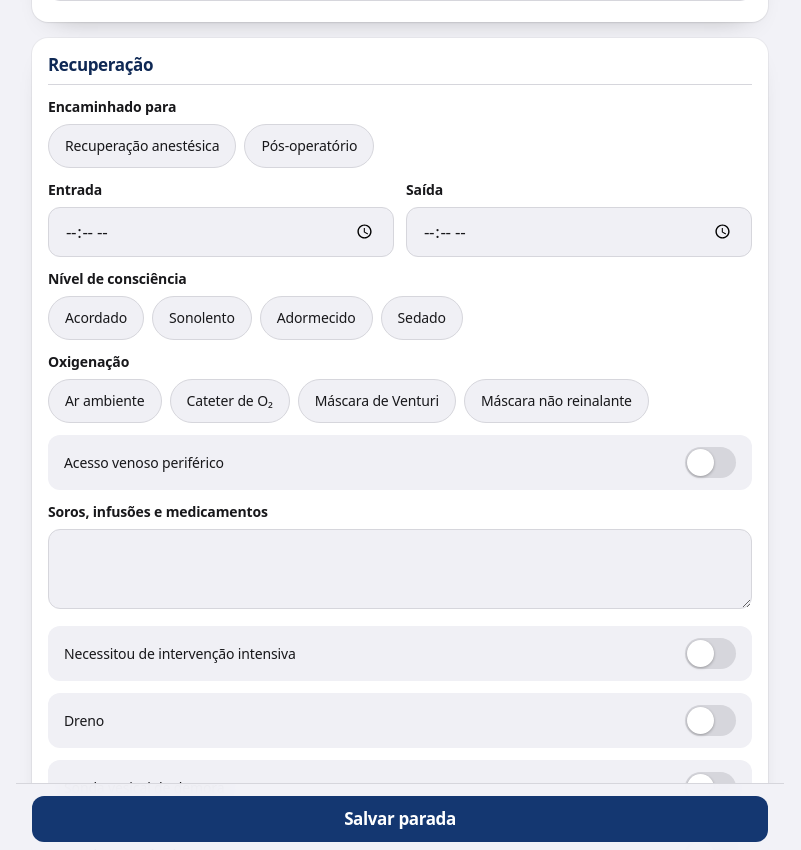
Test: Ficha cirúrgica › a quantidade de litros não é pedida em ar ambiente
(page scrolled)
Step 1. Click the button "Ar ambiente" → [105, 400], box [48,378,162,422]
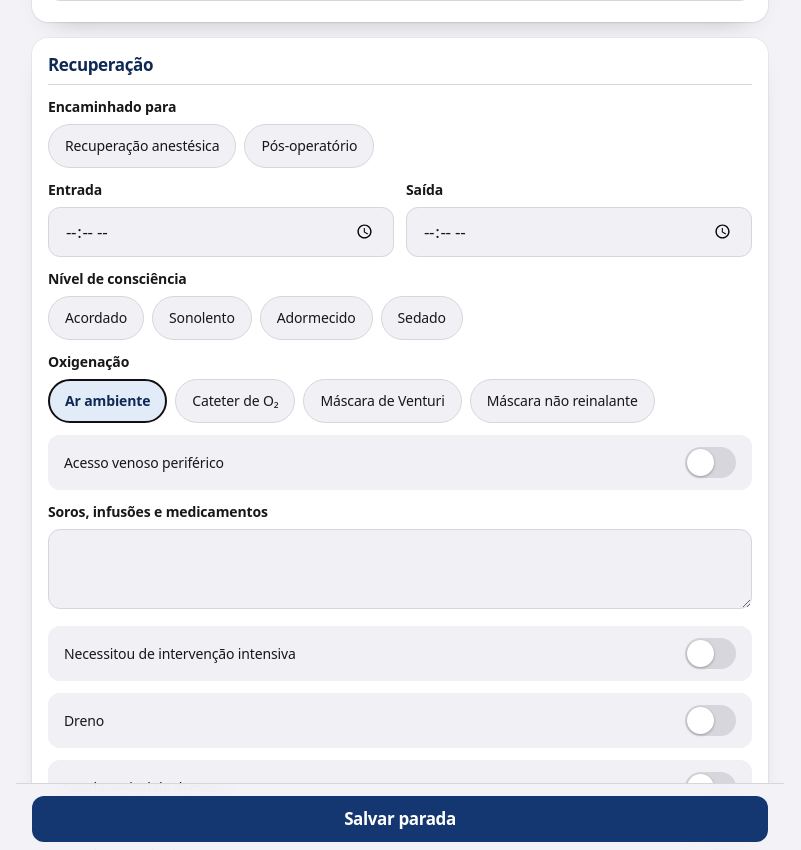
Expected: the field labelled "Litros por minuto" is not shown
Step 2. Click the button "Cateter de O₂" → [235, 400], box [175,378,296,422]
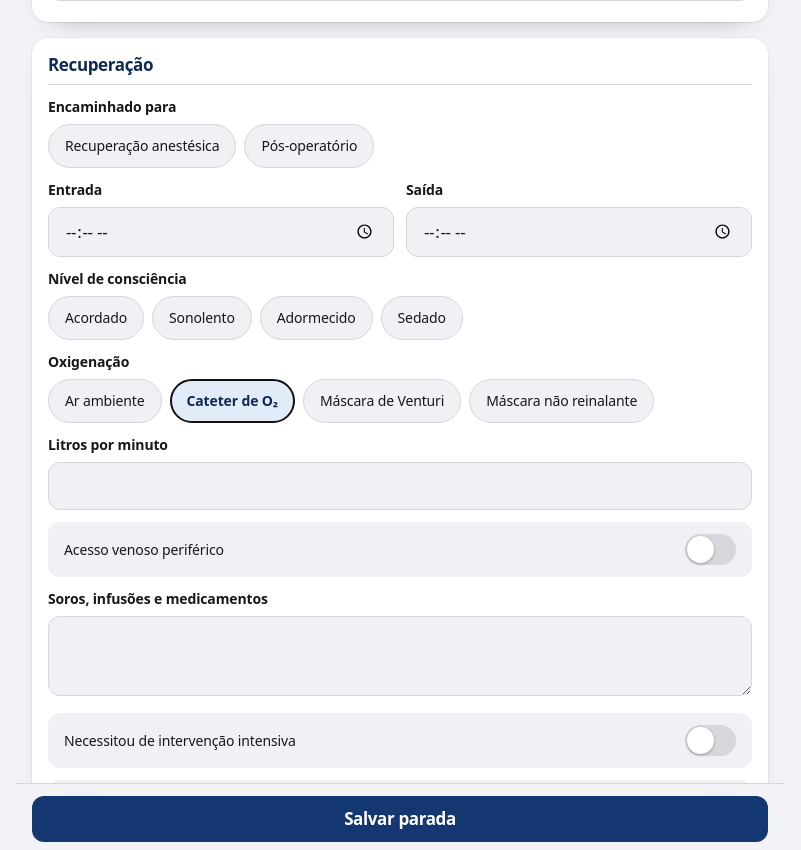
Now the field labelled "Litros por minuto" is shown, box [48,462,752,510]
